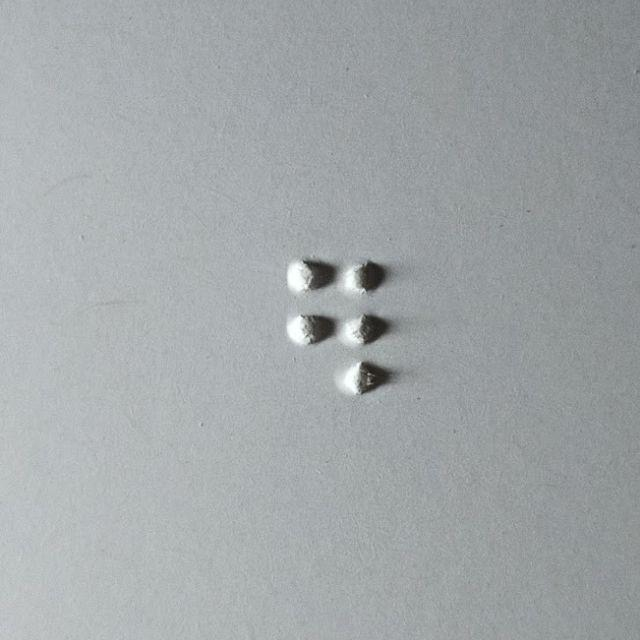raw: (287, 259, 391, 395)
